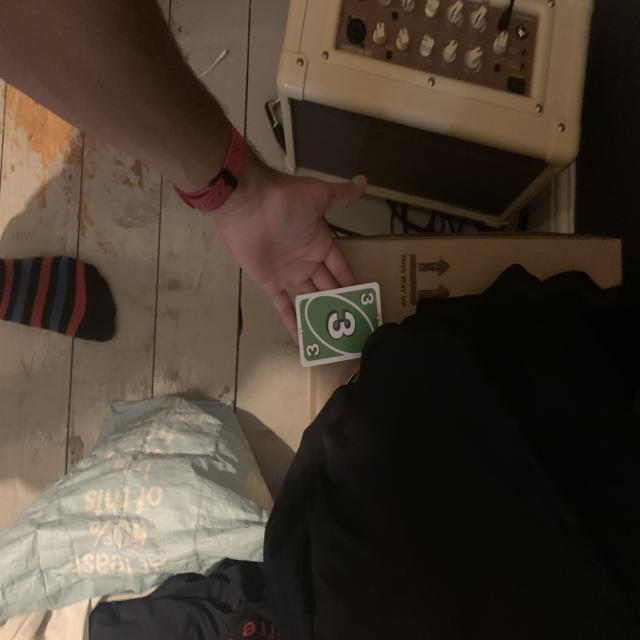lgreen-3: (356, 289, 377, 311)
